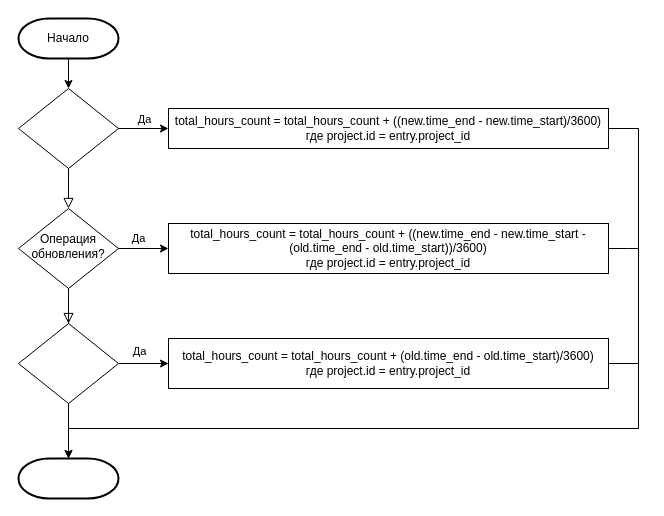
Image size: 664x516. Some labels were removed from this diagram. The shapes that lost their labels are listed below. From the top down, each one's centre as x and y in pixels, then its label:
At [68,128]: "Операция вставки?".
At [68,363]: "Операция удаления?".
At [68,478]: "Конец".
